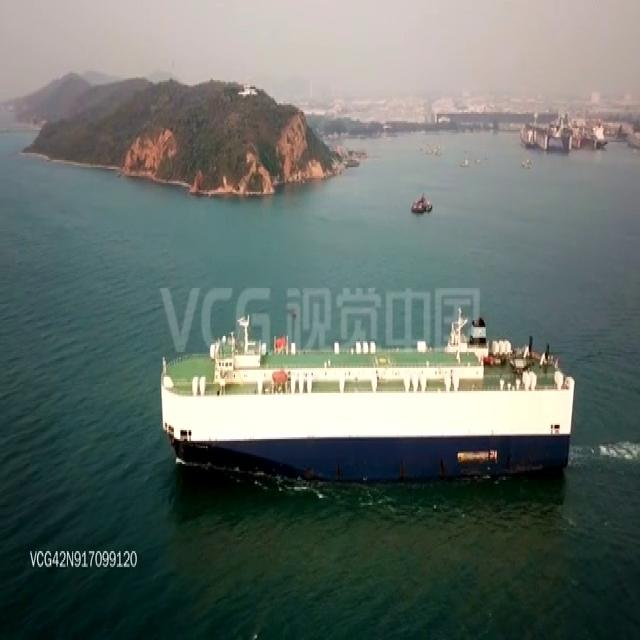cargoship: (410, 192, 434, 218)
passenger ship: (160, 310, 578, 490)
